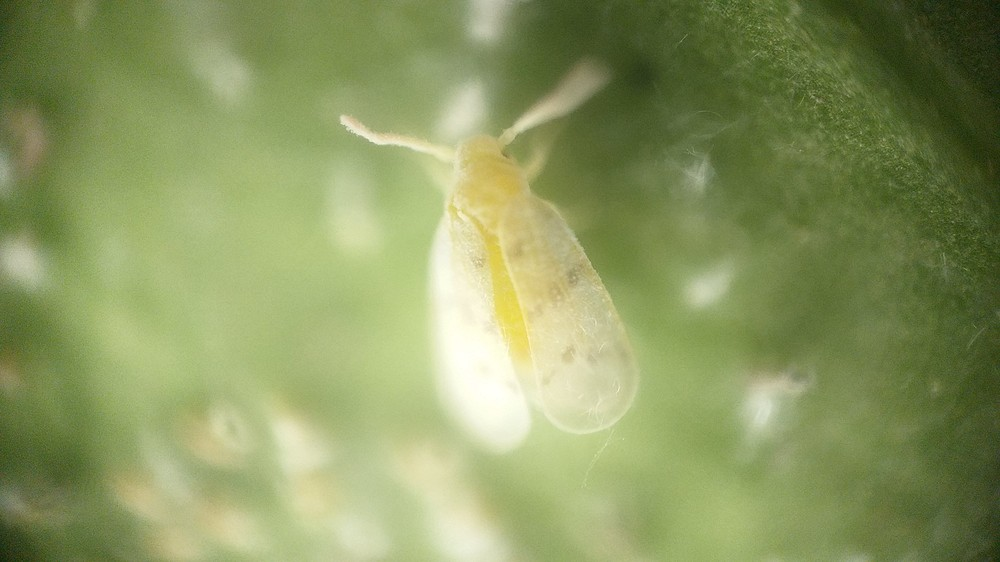Mosca Blanca: (307, 60, 682, 451)
